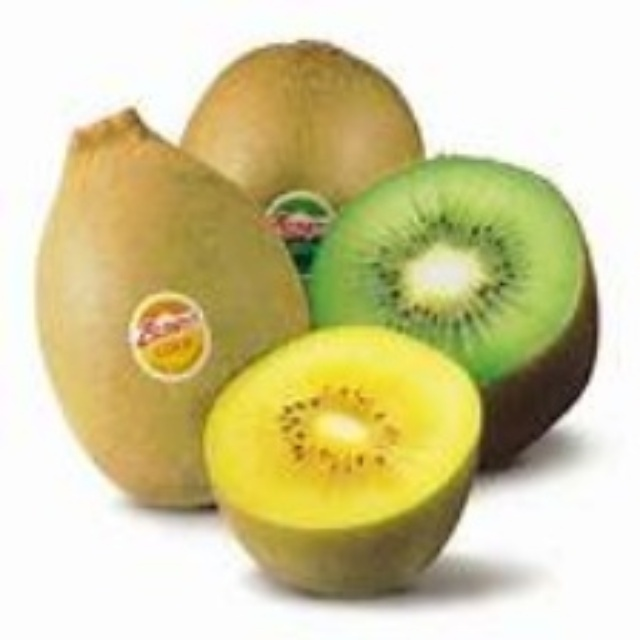kiwi: (43, 109, 307, 525), (191, 329, 488, 600), (327, 154, 589, 457), (188, 41, 417, 251)
